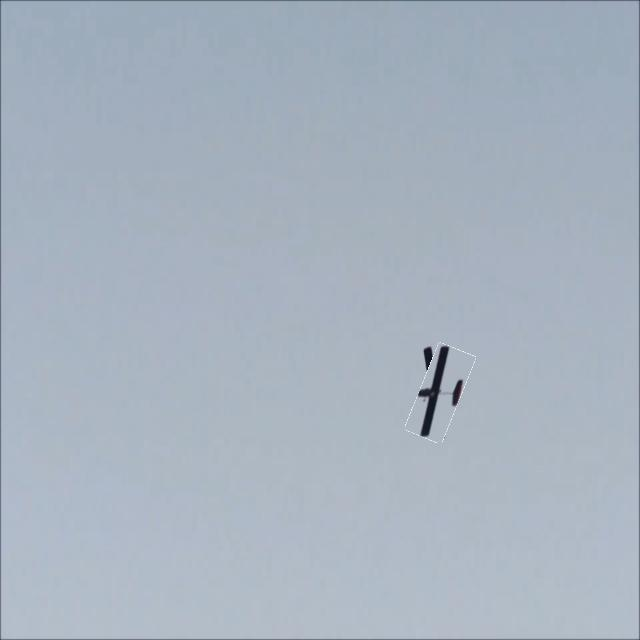iha: (411, 367, 469, 408)
